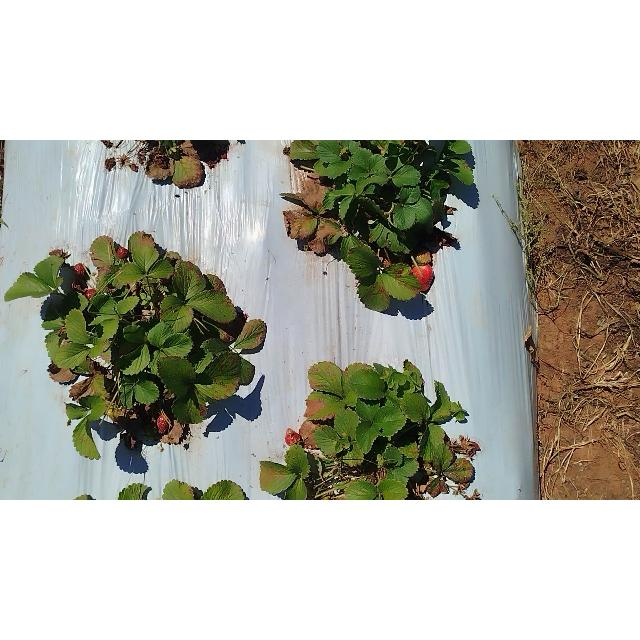maduro: (414, 264, 434, 294), (284, 426, 302, 446), (156, 414, 170, 434)
no-maduro: (413, 247, 433, 263)
